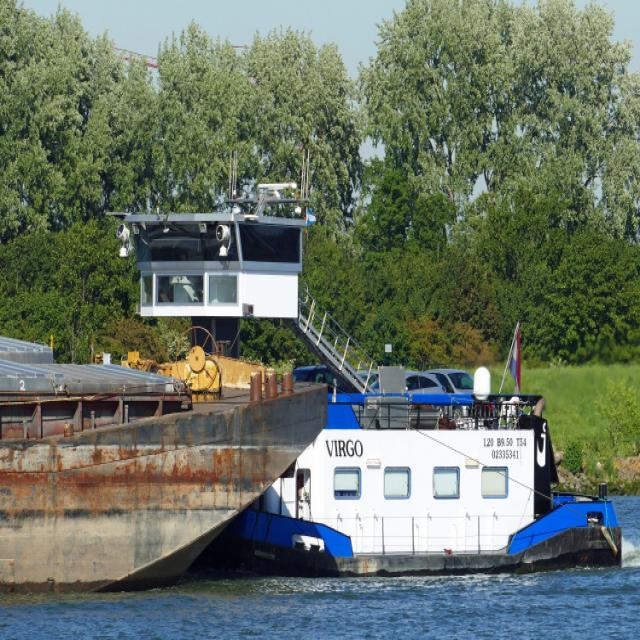tugboat: (110, 174, 629, 582)
